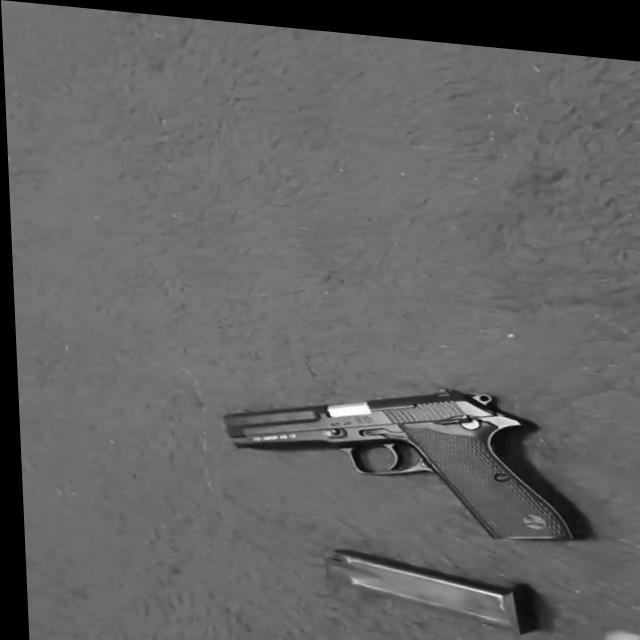handgun: (208, 361, 588, 539)
